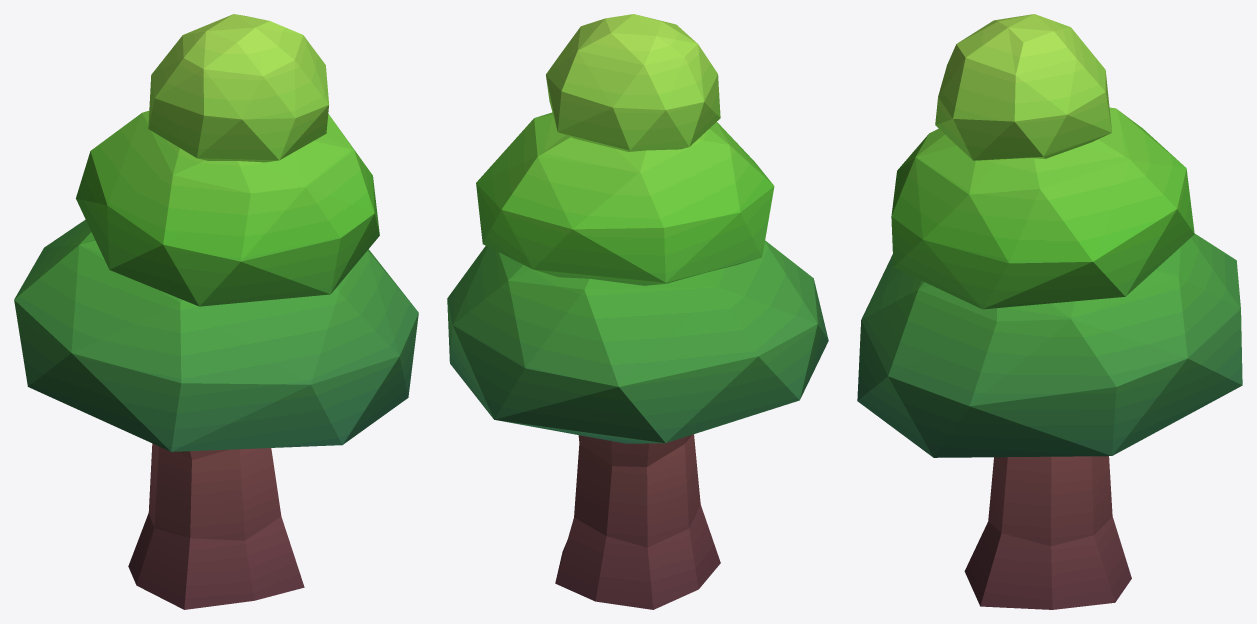
The model's file is Green_G.glb.
3 renders of one model, left to right at view 1: azimuth 30°, elevation 25°; view 2: azimuth 150°, elevation 25°; view 3: azimuth 270°, elevation 25°, orthographic. The views are drawn at different scales.
Parts seen in each view (by area): view 1: Green_Leaves1_L, Green_Leaves2_L, Green_Trunk_L, Green_Leaves3_L; view 2: Green_Leaves1_L, Green_Leaves2_L, Green_Trunk_L, Green_Leaves3_L; view 3: Green_Leaves1_L, Green_Leaves2_L, Green_Trunk_L, Green_Leaves3_L.
Part boxes in pixels (<box>): Green_Leaves1_L: <box>14,219,418,451</box>; Green_Leaves2_L: <box>76,111,379,306</box>; Green_Trunk_L: <box>128,443,304,609</box>; Green_Leaves3_L: <box>148,14,328,162</box>; Green_Leaves1_L: <box>447,240,828,443</box>; Green_Leaves2_L: <box>476,112,774,285</box>; Green_Trunk_L: <box>555,434,720,609</box>; Green_Leaves3_L: <box>546,14,720,151</box>; Green_Leaves1_L: <box>857,233,1242,457</box>; Green_Leaves2_L: <box>891,107,1194,309</box>; Green_Trunk_L: <box>964,456,1131,609</box>; Green_Leaves3_L: <box>935,14,1111,160</box>.
Size of the model in its own units: 2.15 by 3.35 by 2.07.
Materials: 1 (1 with a texture image).
